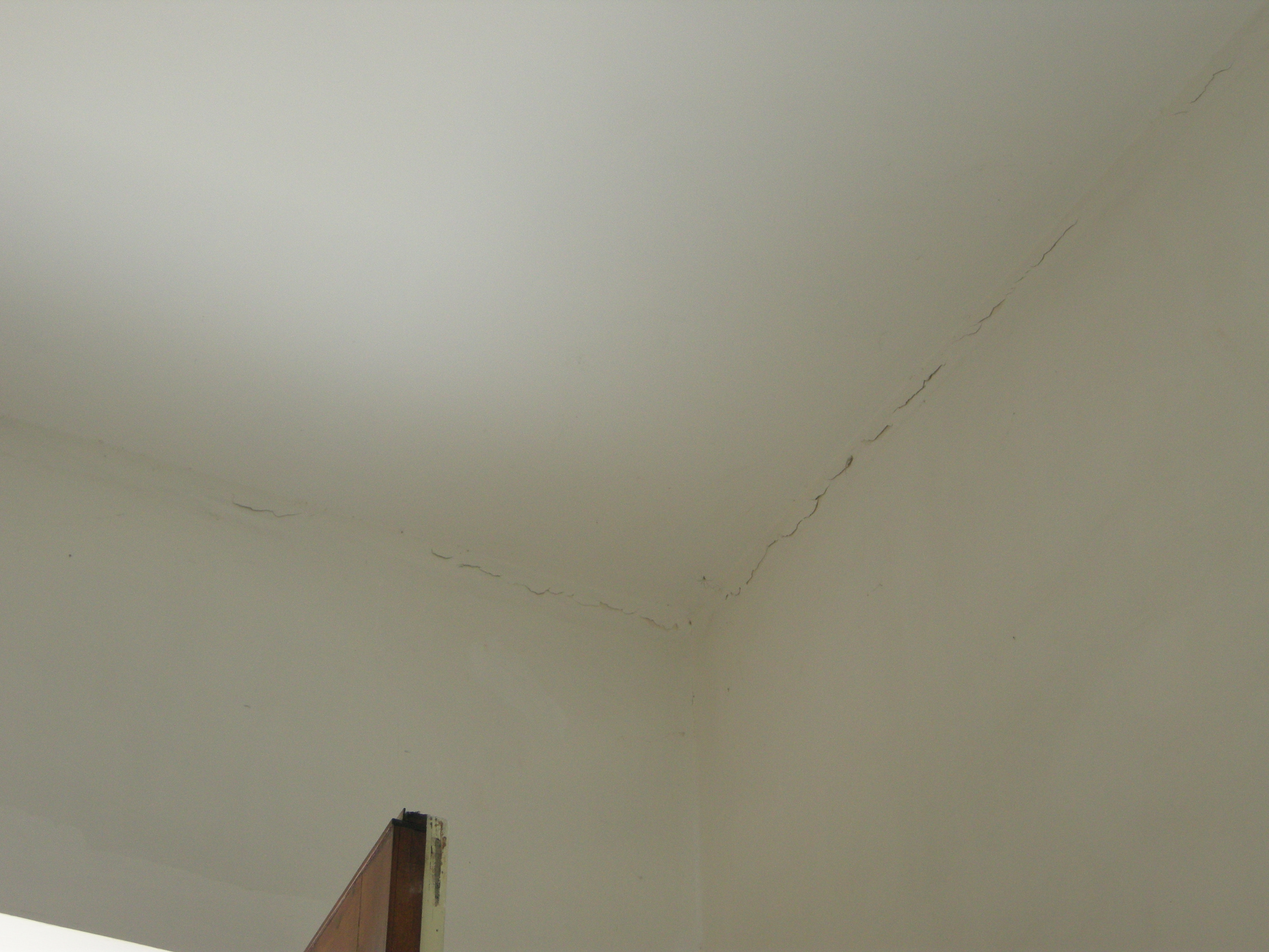Crack: (9, 14, 1237, 729)
